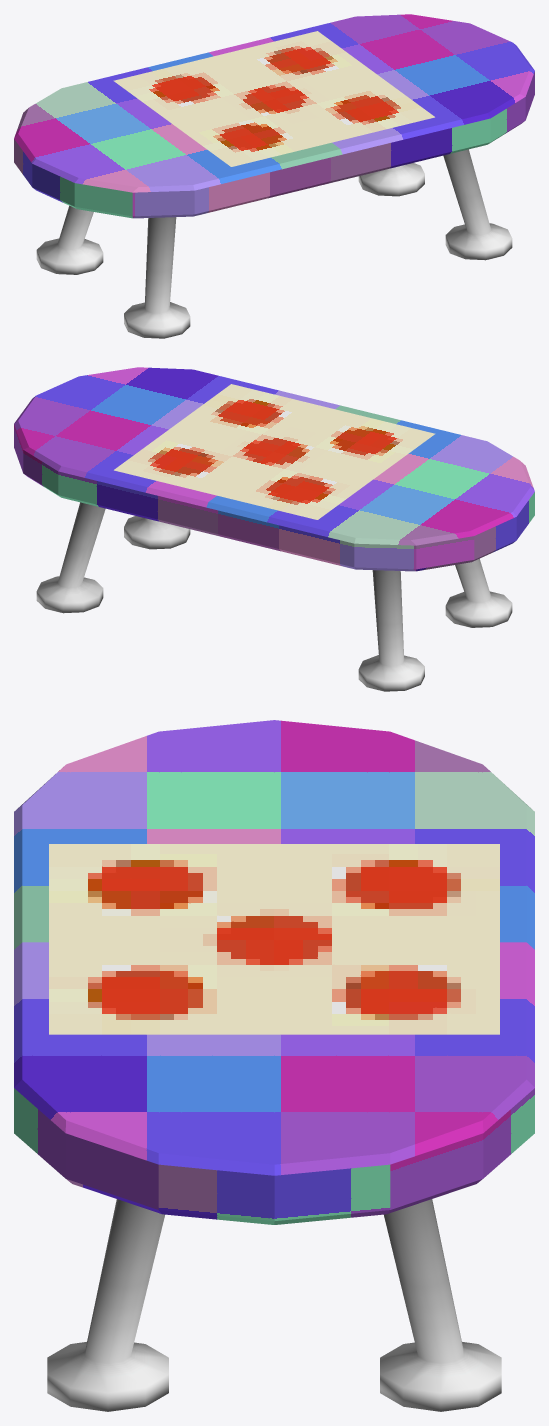
Rendered from rmk_dot_tableM_jwl.dae.
The picture shows the model from 3 angles, top to bottom: view 1: azimuth 30°, elevation 25°; view 2: azimuth 150°, elevation 25°; view 3: azimuth 270°, elevation 25°; orthographic projection. The views are drawn at different scales.
Parts seen in each view (by area): view 1: rmk_dot_tableM_jwl; view 2: rmk_dot_tableM_jwl; view 3: rmk_dot_tableM_jwl.
Boxes of the visible parts, <box> form: rmk_dot_tableM_jwl: <box>14,14,534,338</box>; rmk_dot_tableM_jwl: <box>14,367,534,691</box>; rmk_dot_tableM_jwl: <box>14,720,534,1411</box>.
Size of the model in its own units: 52.48 by 16.02 by 25.58.
3 materials, 3 textured.
